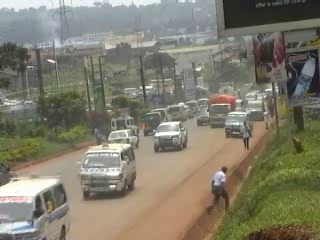Car: (108, 111, 140, 138), (106, 127, 139, 152), (142, 110, 165, 138), (195, 107, 213, 127)
